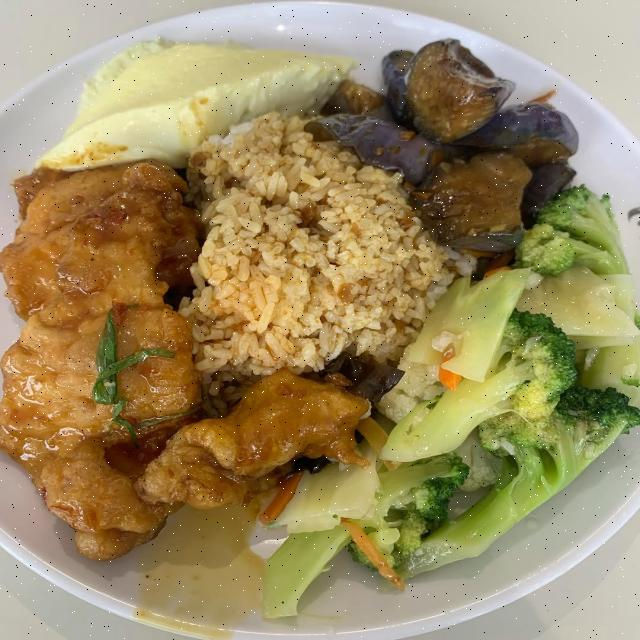Chicken: (0, 163, 369, 559)
Egg: (35, 38, 356, 170)
Green veg: (263, 186, 639, 618)
Non green veg: (306, 38, 578, 255)
Rice: (180, 113, 473, 383)
